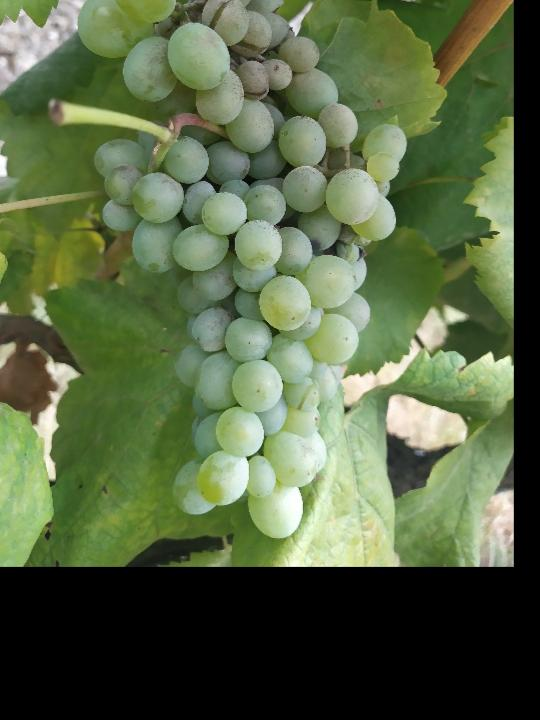grape: (74, 0, 410, 543)
